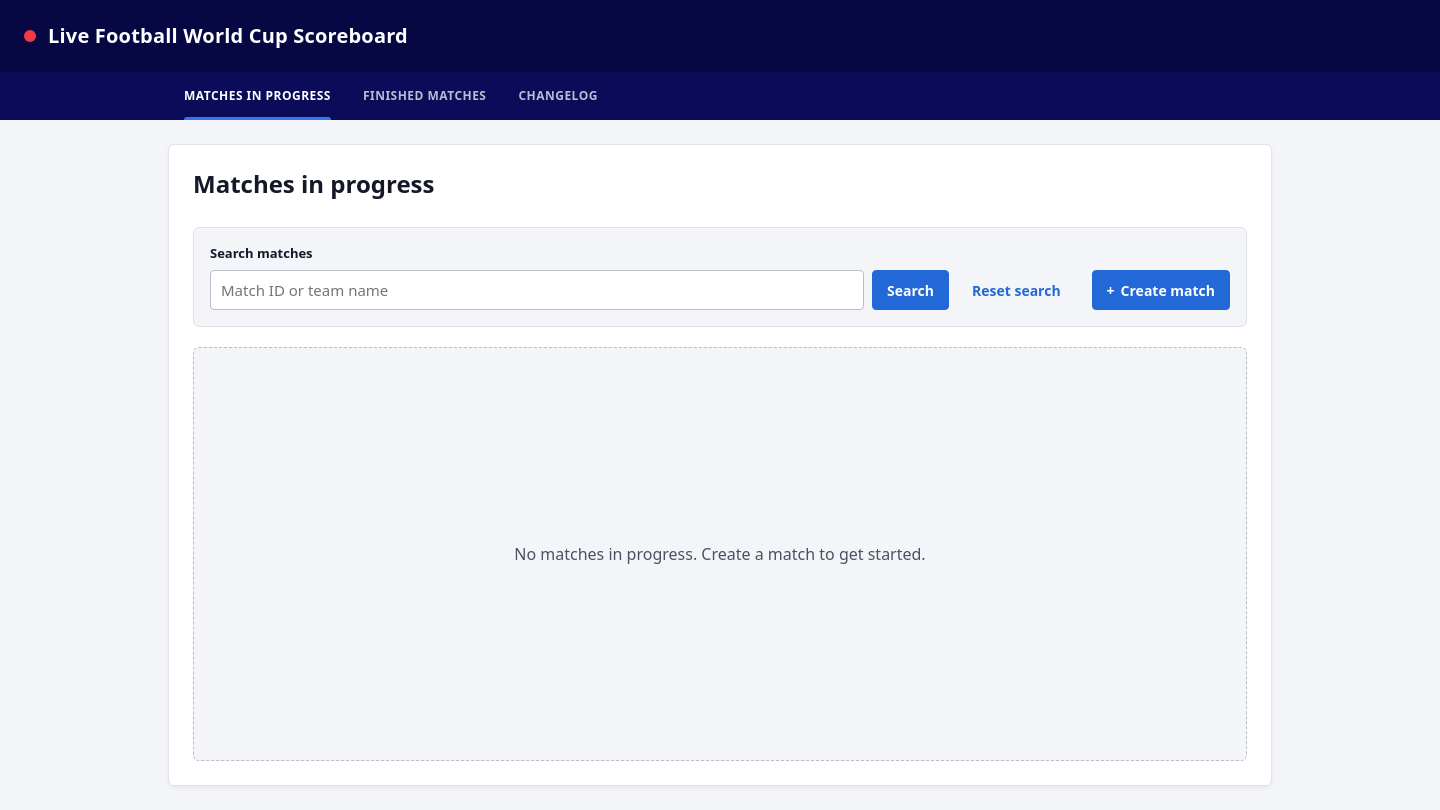
Test: App › should navigate to finished matches when its tab is selected
The width and height of the screenshot is (1440, 810).
Click the tab "Finished matches" at {"x": 425, "y": 96}, box [363,87,486,104]
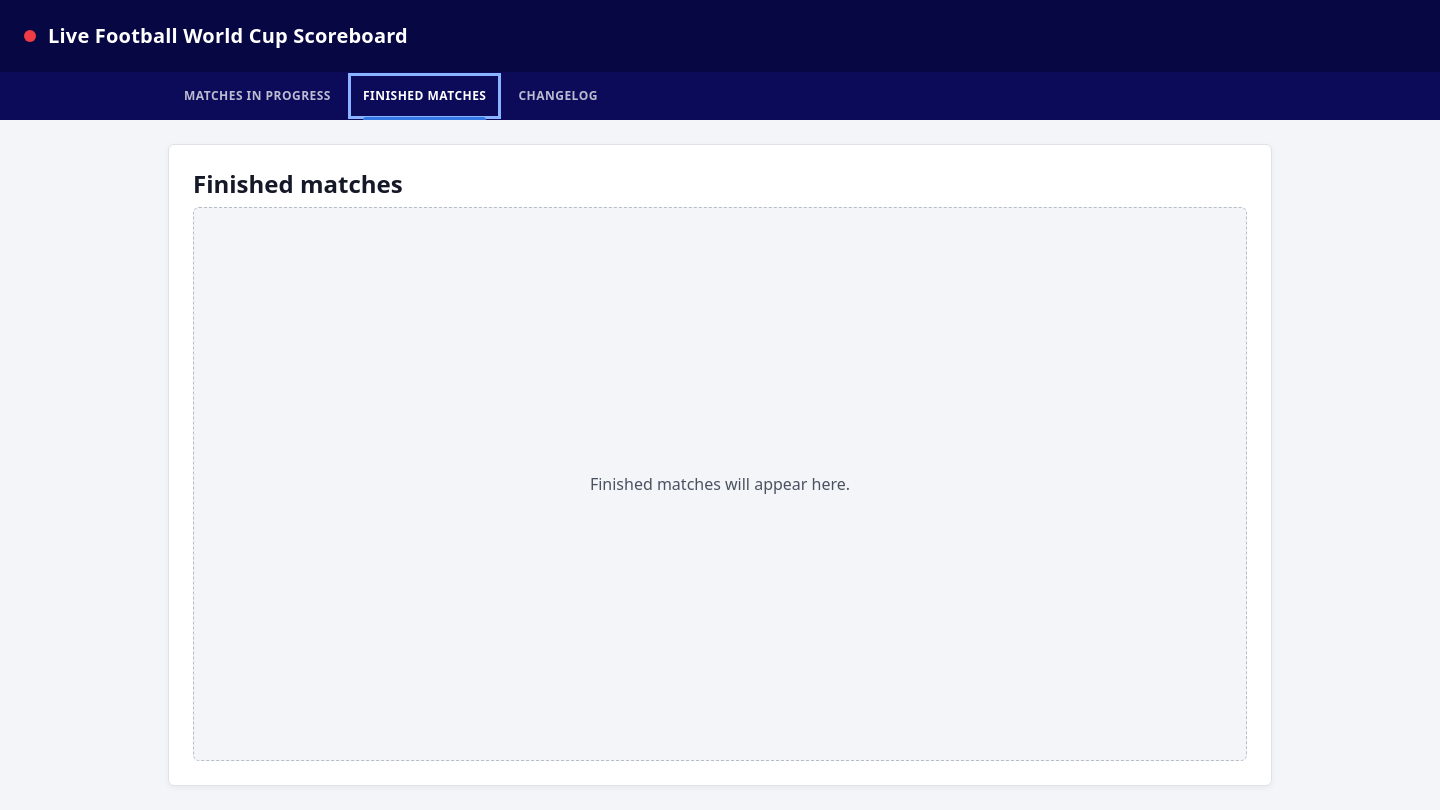
Expected: the heading "Finished matches" is shown, [193,167,403,200]
